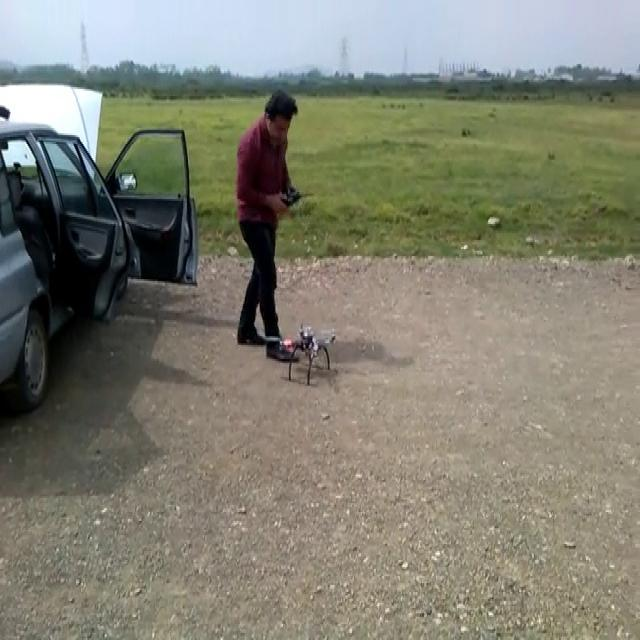drone: (265, 320, 341, 382)
